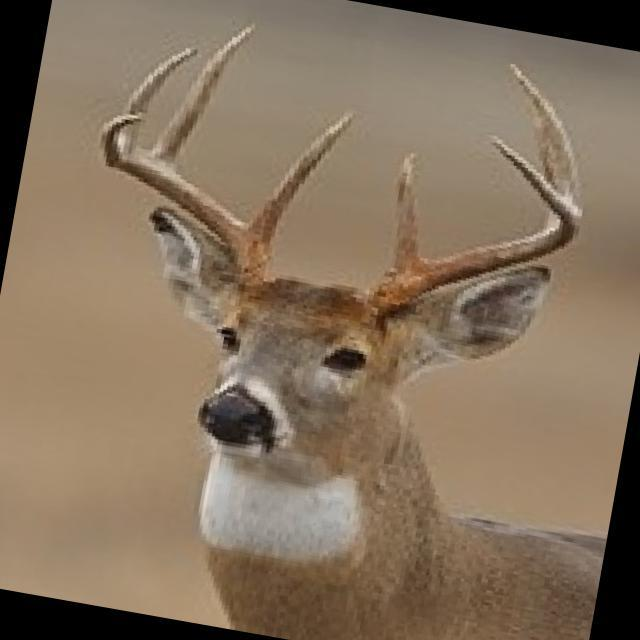L-F: (367, 136, 581, 321)
L-G1: (388, 152, 420, 271)
R-F: (97, 112, 271, 286)
R-G1: (246, 111, 355, 246)
R-G2: (148, 22, 255, 165)
